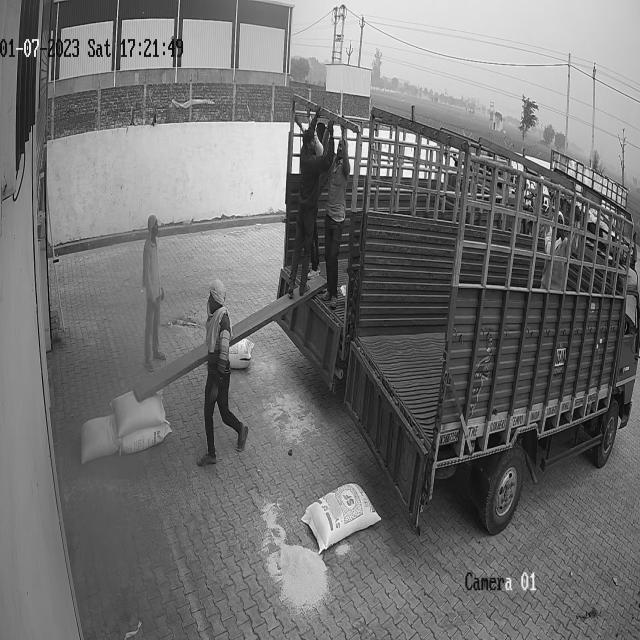sack: (301, 484, 381, 554), (110, 392, 165, 435), (79, 414, 117, 464), (120, 424, 171, 453)
